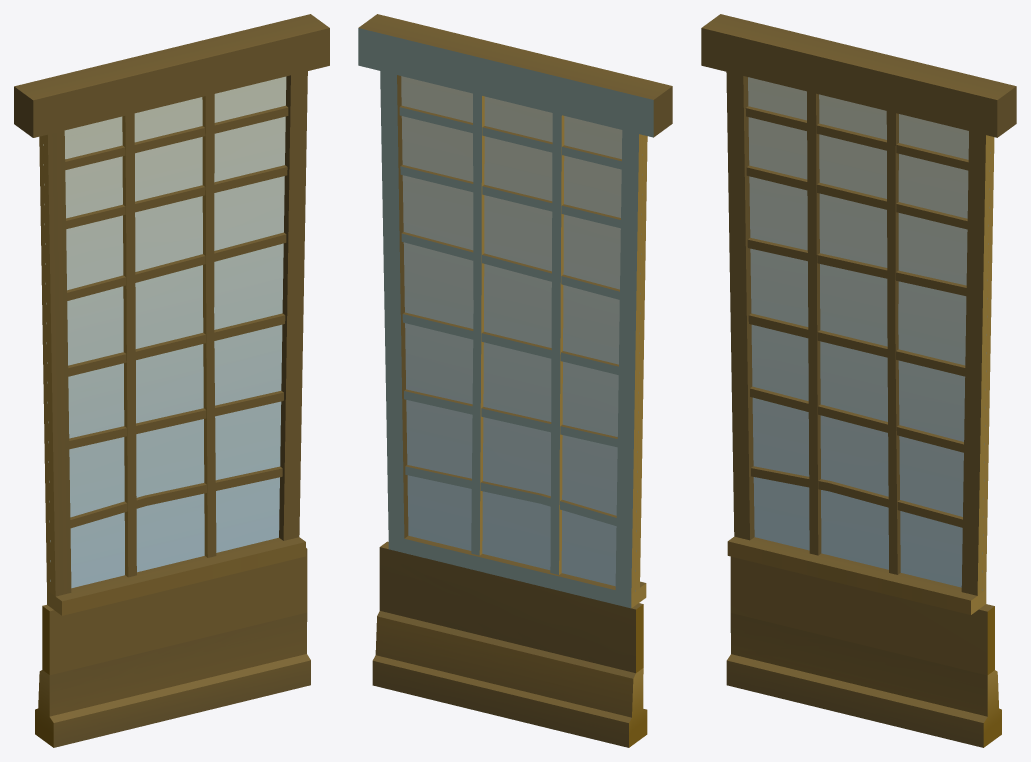
The model's file is Museum_OfficeWindow.fbx.
3 views of the same model, side by side, from view 1: azimuth 30°, elevation 25°; view 2: azimuth 150°, elevation 25°; view 3: azimuth 330°, elevation 25° (orthographic).
Parts seen in each view (by area): view 1: Cube; view 2: Cube; view 3: Cube.
Boxes of the visible parts, bbox=[...] form: Cube: bbox=[14, 14, 329, 747]; Cube: bbox=[358, 14, 672, 747]; Cube: bbox=[701, 14, 1016, 747].
Size of the model in its own units: 2.31 by 4.86 by 0.2994.
